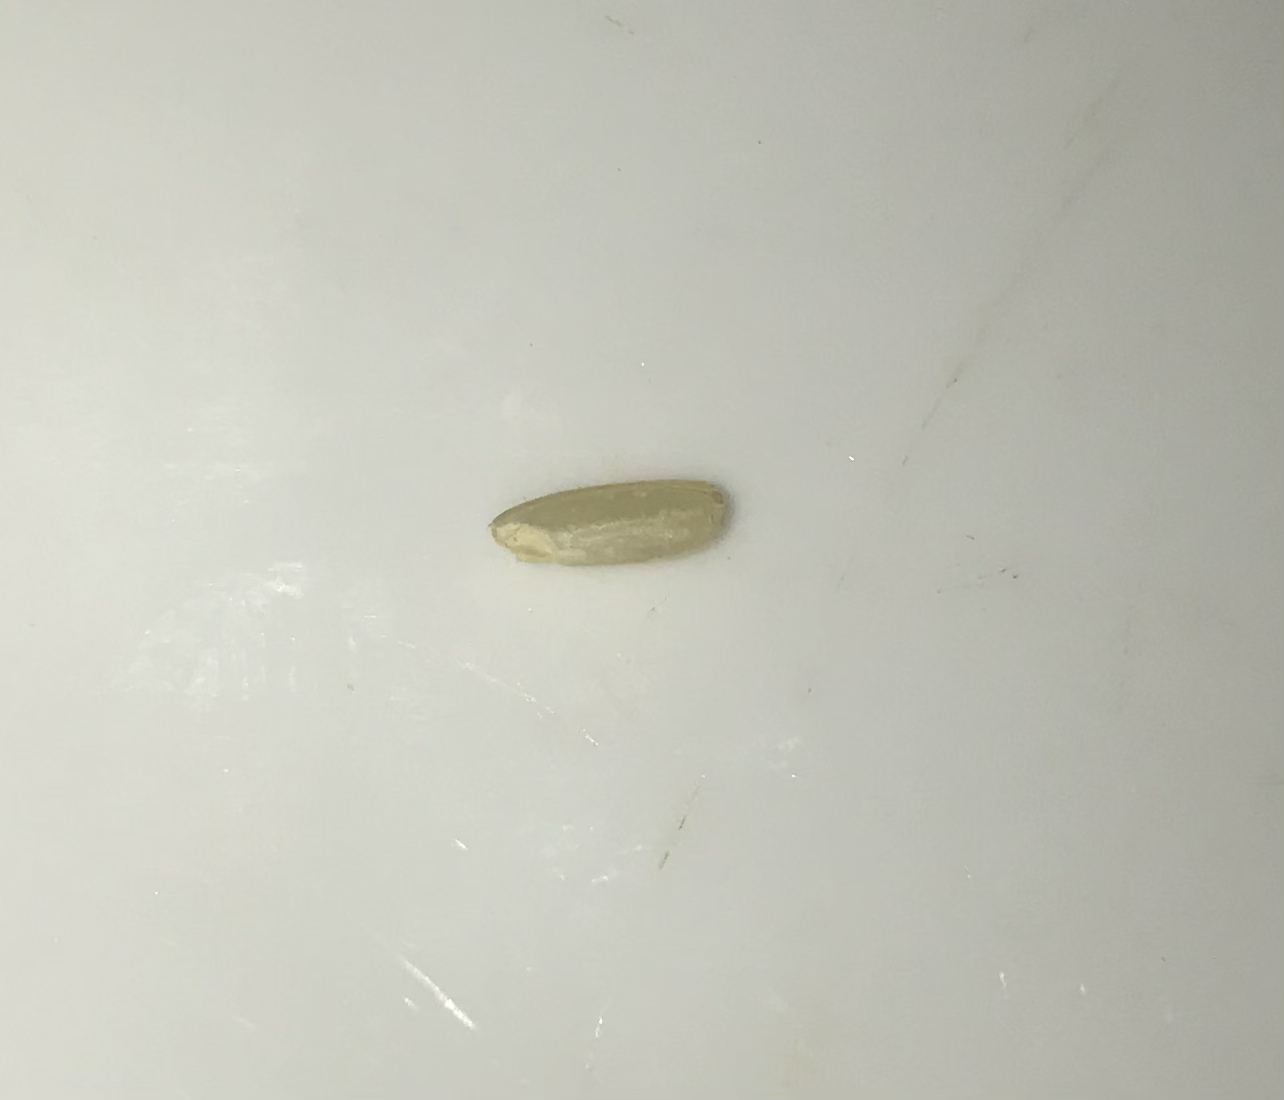Gao Lut Trang: (484, 476, 743, 590)
